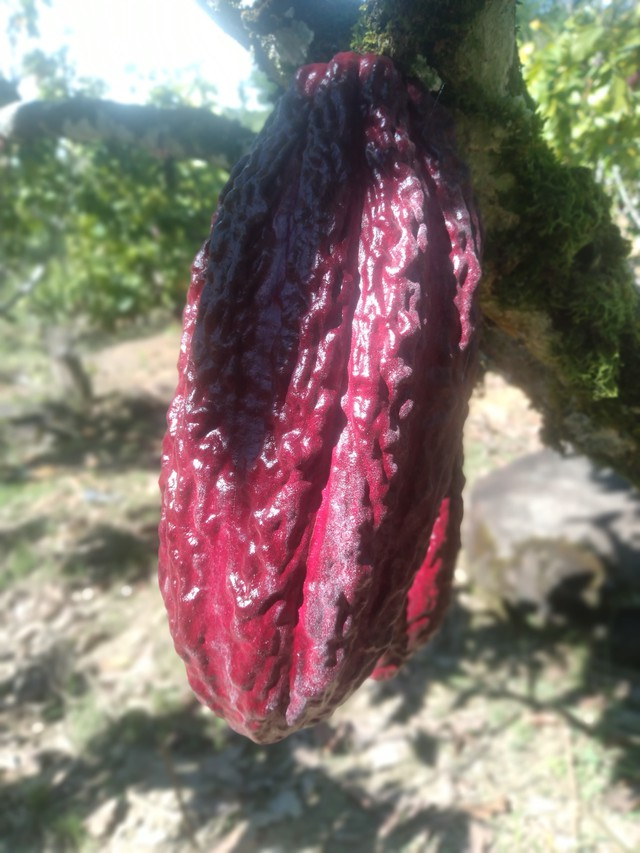Health: (135, 46, 495, 752)
